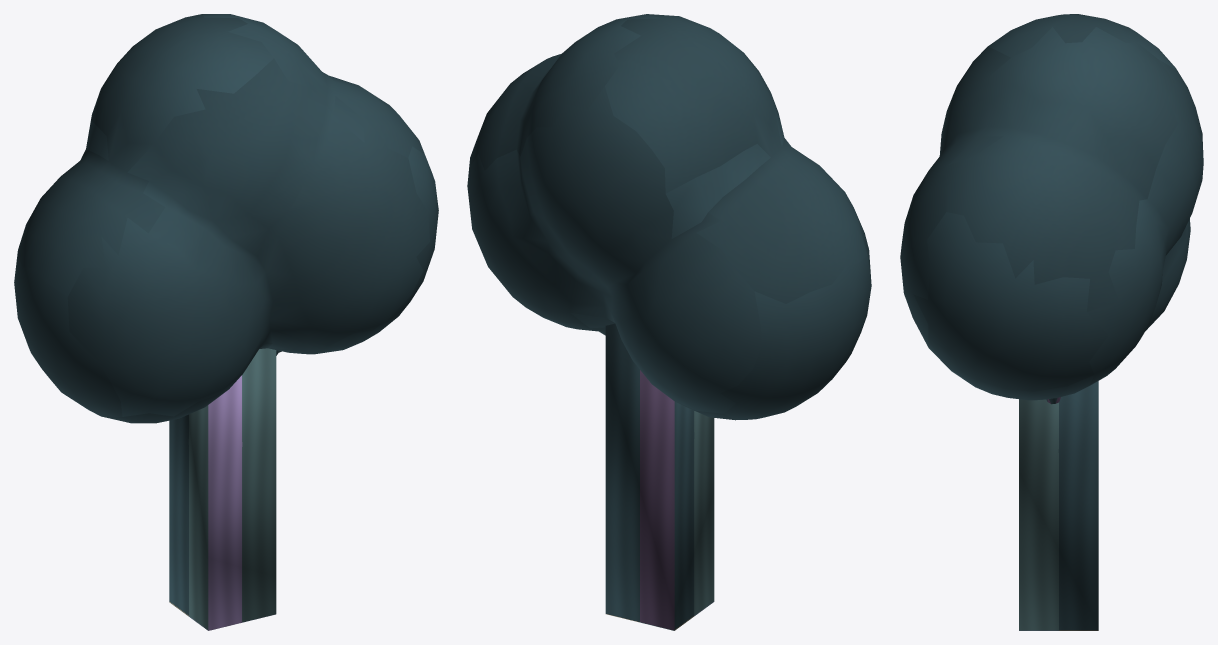
File: tree_crooked_a.glb
3 renders of one model, left to right at view 1: azimuth 30°, elevation 25°; view 2: azimuth 150°, elevation 25°; view 3: azimuth 270°, elevation 25°, orthographic.
Visible parts, largest first — view 1: lod0, col; view 2: lod0, col; view 3: lod0, col.
Part boxes in pixels (x1,y1,x2,y2): lod0: (14, 14, 438, 423); col: (169, 348, 276, 630); lod0: (467, 14, 871, 420); col: (605, 323, 714, 630); lod0: (900, 14, 1203, 404); col: (1019, 381, 1098, 630).
Size of what is drawn, in the model's own units: 3.32 by 4.88 by 2.28.
2 materials, 2 textured.
